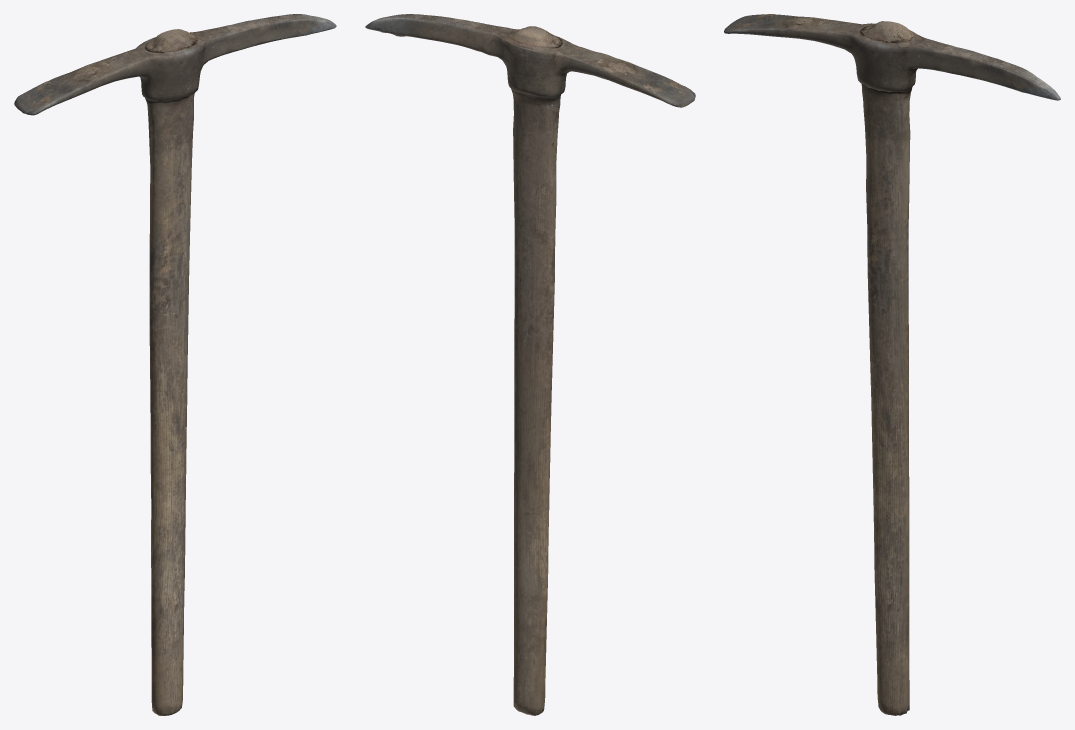
File: picke_dirty_01.glb
3 views of the same model, side by side, from view 1: azimuth 30°, elevation 25°; view 2: azimuth 150°, elevation 25°; view 3: azimuth 330°, elevation 25° (orthographic).
Parts seen in each view (by area): view 1: picke_dirty_01; view 2: picke_dirty_01; view 3: picke_dirty_01.
Boxes of the visible parts, x1,y1,x2,y2 form: picke_dirty_01: (14,14,336,715); picke_dirty_01: (365,14,695,715); picke_dirty_01: (724,14,1060,715).
Bounding box in the file's own units: 0.5498 × 1.12 × 0.069.
1 material, 1 textured.
